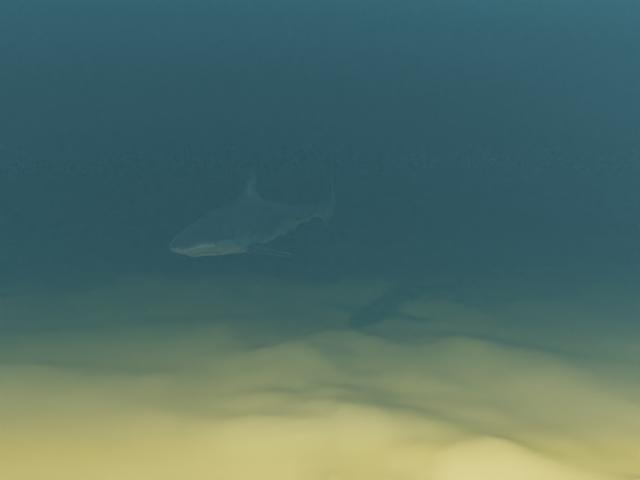Carribean Shark.001: (169, 165, 336, 260)
